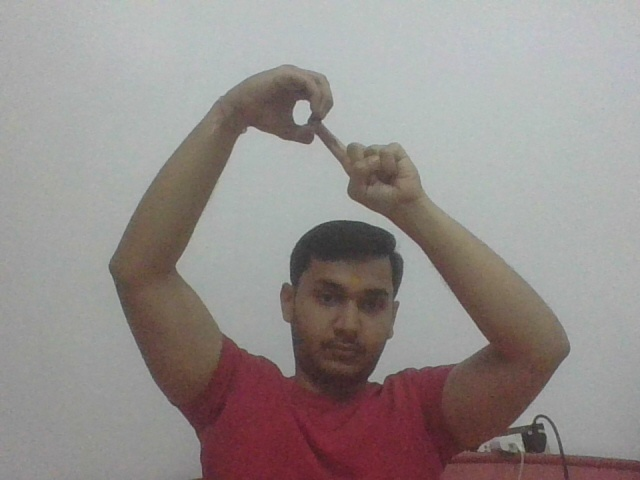Q: (251, 63, 400, 207)
